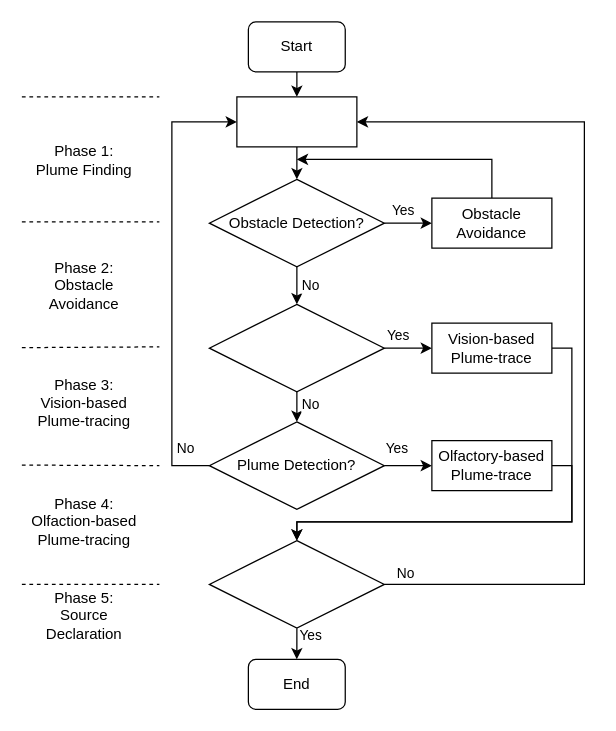
The diagram is 616 pixels wide and 731 high, and some of its shapes have lost their labels. Here are the shapes that lost their labels. From the top down, the centre of each, then its label:
(296,121): Plume-find
(296,347): Vision Detection?
(296,583): Source Conformation?
